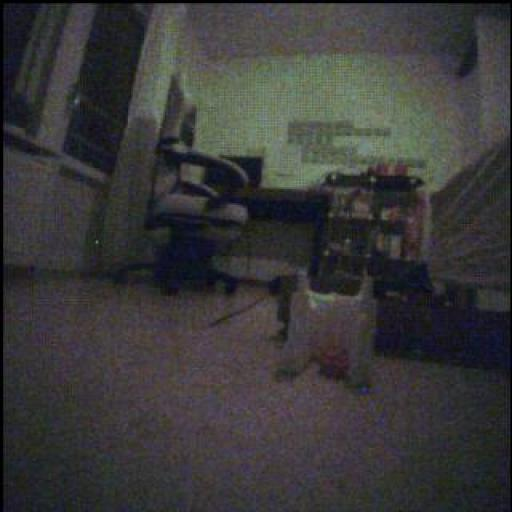basket: (318, 342, 352, 383)
